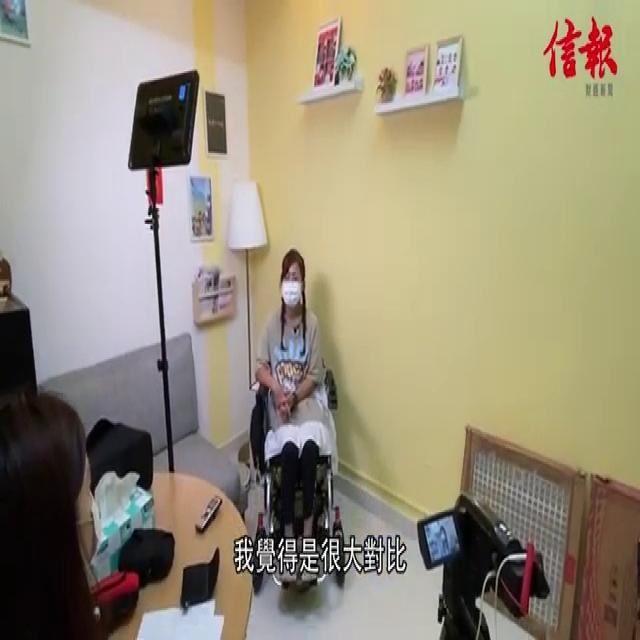wheelchairs: (246, 336, 360, 614)
